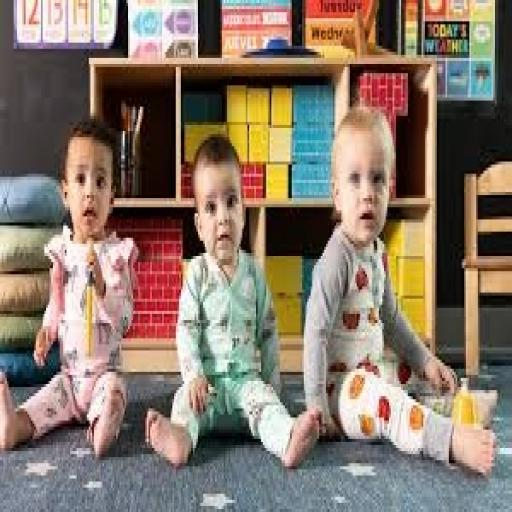baby: (304, 107, 496, 475), (146, 135, 320, 466), (0, 116, 138, 457)
